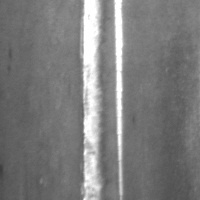scratches: (78, 1, 106, 200), (110, 1, 127, 200)
